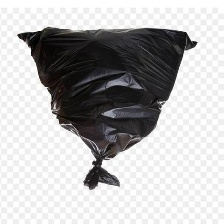plastic_bag: (12, 23, 201, 192)
